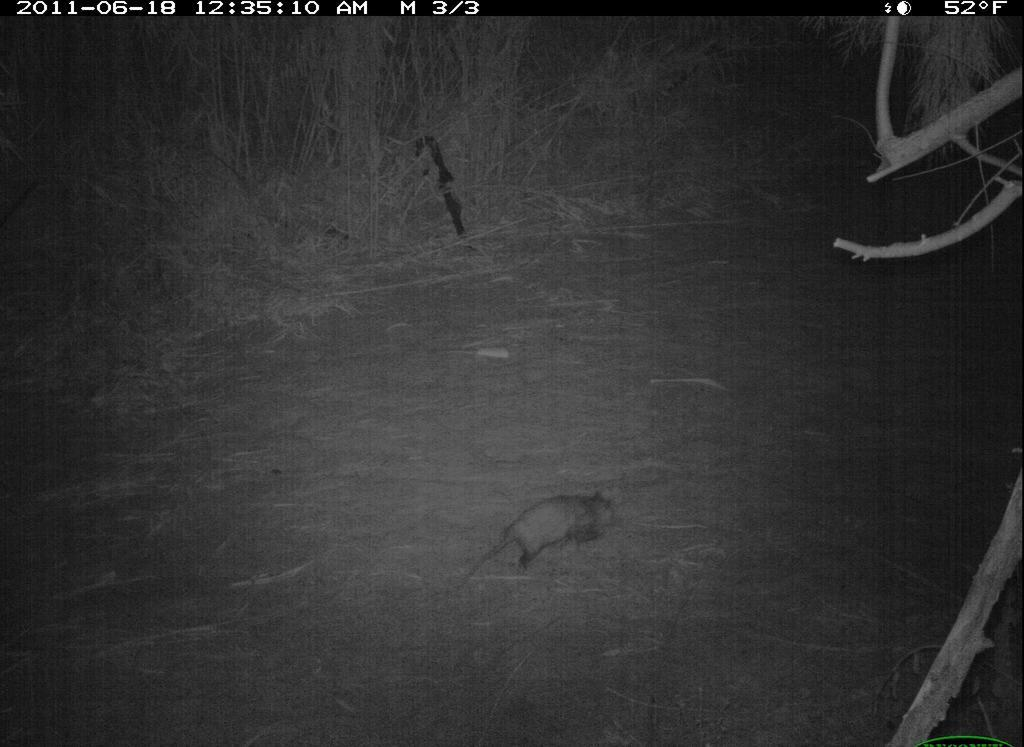opossum: (448, 482, 637, 588)
